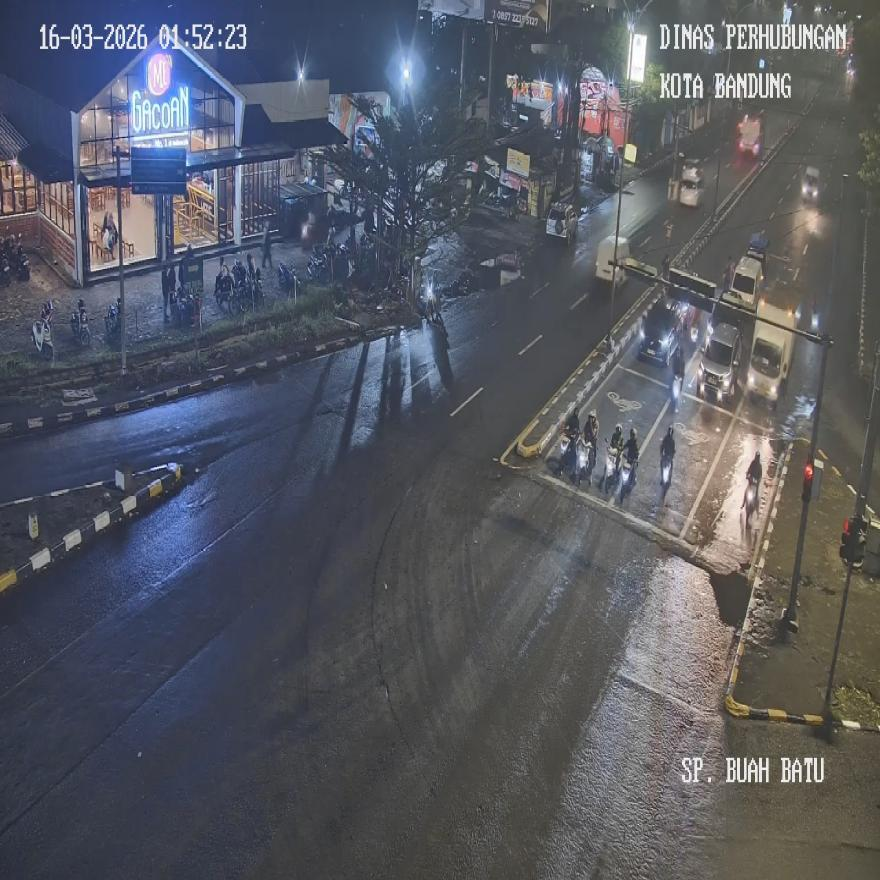Truk: (32, 306, 53, 360), (740, 471, 758, 534), (574, 433, 594, 484), (70, 298, 90, 347), (214, 265, 234, 314), (602, 444, 620, 492), (560, 427, 578, 474), (660, 426, 674, 486), (308, 246, 330, 284), (421, 272, 437, 321), (619, 453, 636, 498), (276, 262, 297, 298), (105, 298, 121, 342), (660, 448, 672, 492)
